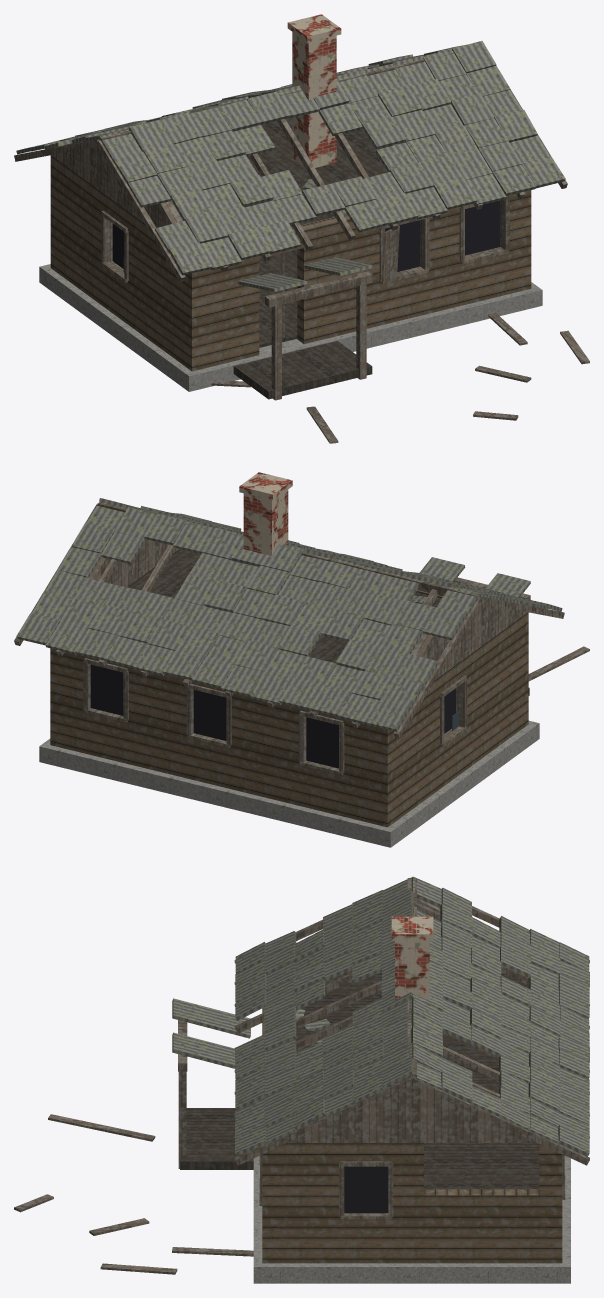
Rendered from house_izba_b.glb.
3 renders of one model, top to bottom at view 1: azimuth 30°, elevation 25°; view 2: azimuth 150°, elevation 25°; view 3: azimuth 270°, elevation 25°, orthographic. The views are drawn at different scales.
Parts seen in each view (by area): view 1: house_izba_b; view 2: house_izba_b; view 3: house_izba_b.
Boxes of the visible parts, left/top/right/bottom form: house_izba_b: left=14, top=14, right=589, bottom=443; house_izba_b: left=14, top=472, right=589, bottom=847; house_izba_b: left=14, top=876, right=589, bottom=1283.
Bounding box in the file's own units: 8.2 × 5.35 × 9.98.
8 materials, 6 textured.
